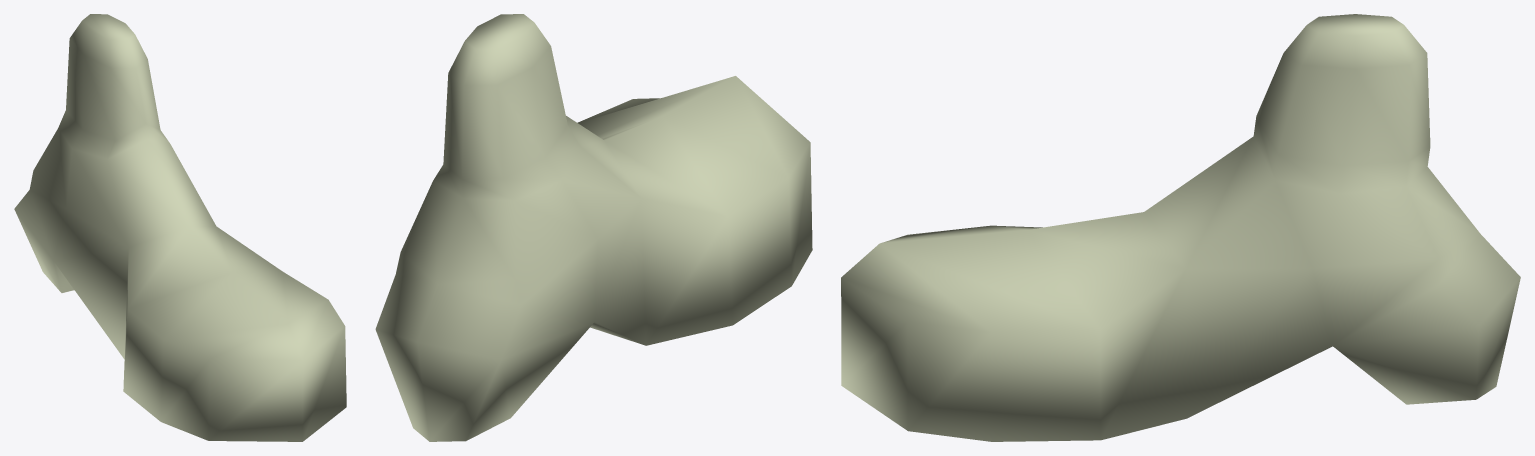
Rendered from anime_robot_foot.dae.
The picture shows the model from 3 angles, left to right: view 1: azimuth 30°, elevation 25°; view 2: azimuth 150°, elevation 25°; view 3: azimuth 270°, elevation 25°; orthographic projection. The views are drawn at different scales.
Parts seen in each view (by area): view 1: Cube6_extract17-0; view 2: Cube6_extract17-0; view 3: Cube6_extract17-0.
Boxes of the visible parts, bbox=[...] form: Cube6_extract17-0: bbox=[14, 14, 346, 441]; Cube6_extract17-0: bbox=[375, 14, 812, 441]; Cube6_extract17-0: bbox=[841, 14, 1520, 441].
Bounding box in the file's own units: 0.7513 × 1.16 × 1.96.
